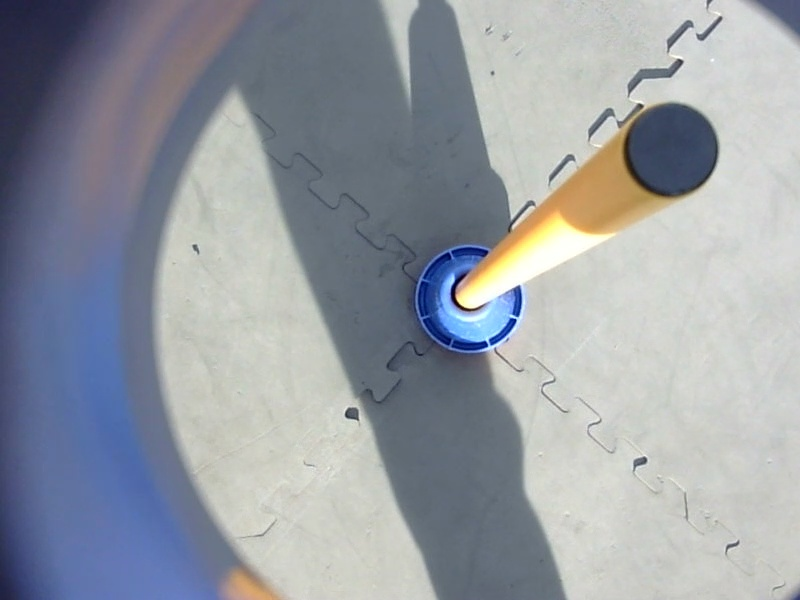tip: (615, 95, 727, 211)
